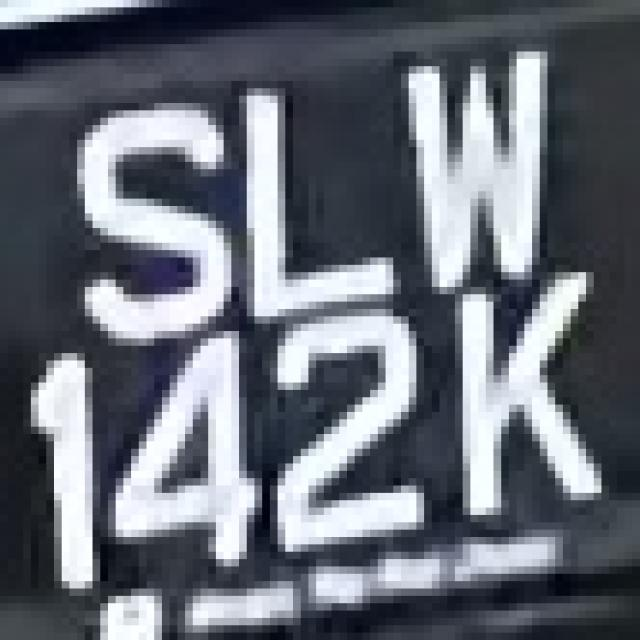1: (15, 338, 108, 626)
2: (270, 287, 439, 566)
4: (92, 331, 278, 589)
K: (432, 280, 594, 530)
L: (208, 51, 409, 316)
S: (54, 81, 231, 346)
W: (378, 36, 586, 280)
